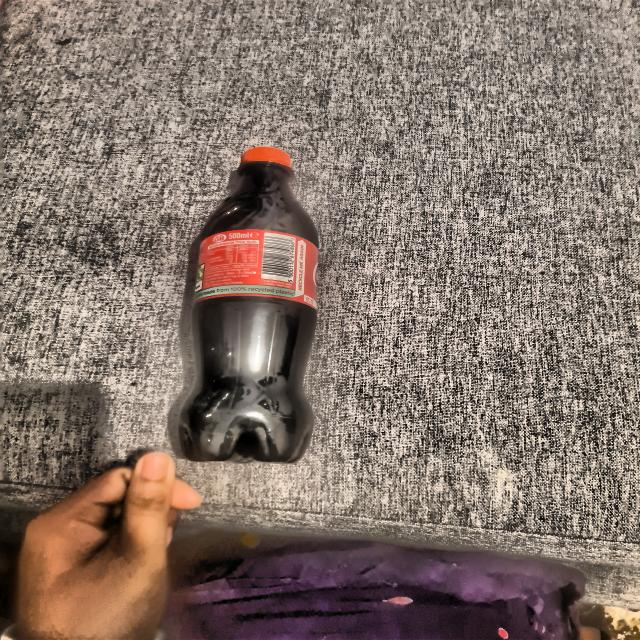coke-bottle: (182, 141, 330, 470)
